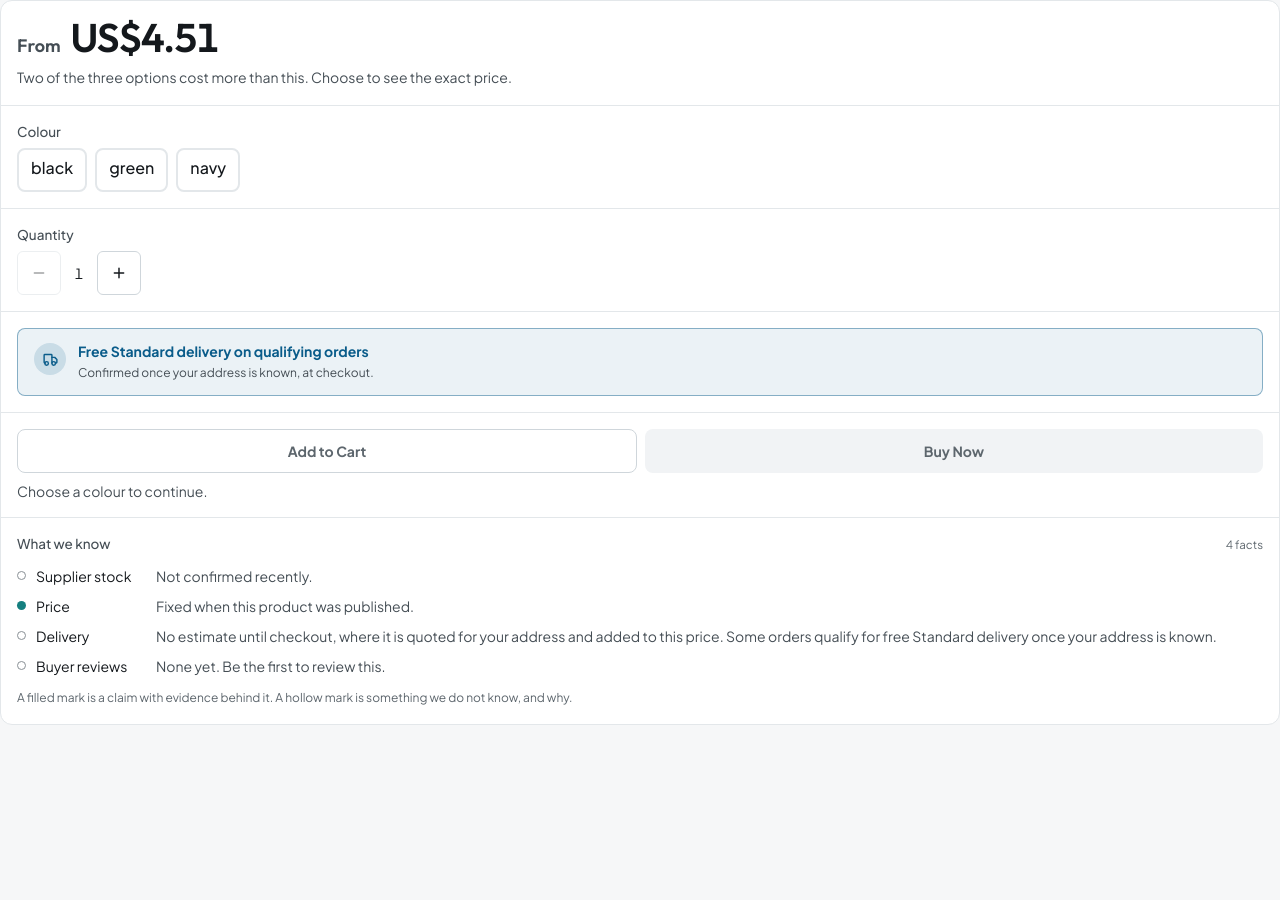
Test: ProductRecordPanel › becomes buyable once an option is chosen
Step 1. Click the link "black" → (52, 170), box [17,148,87,192]
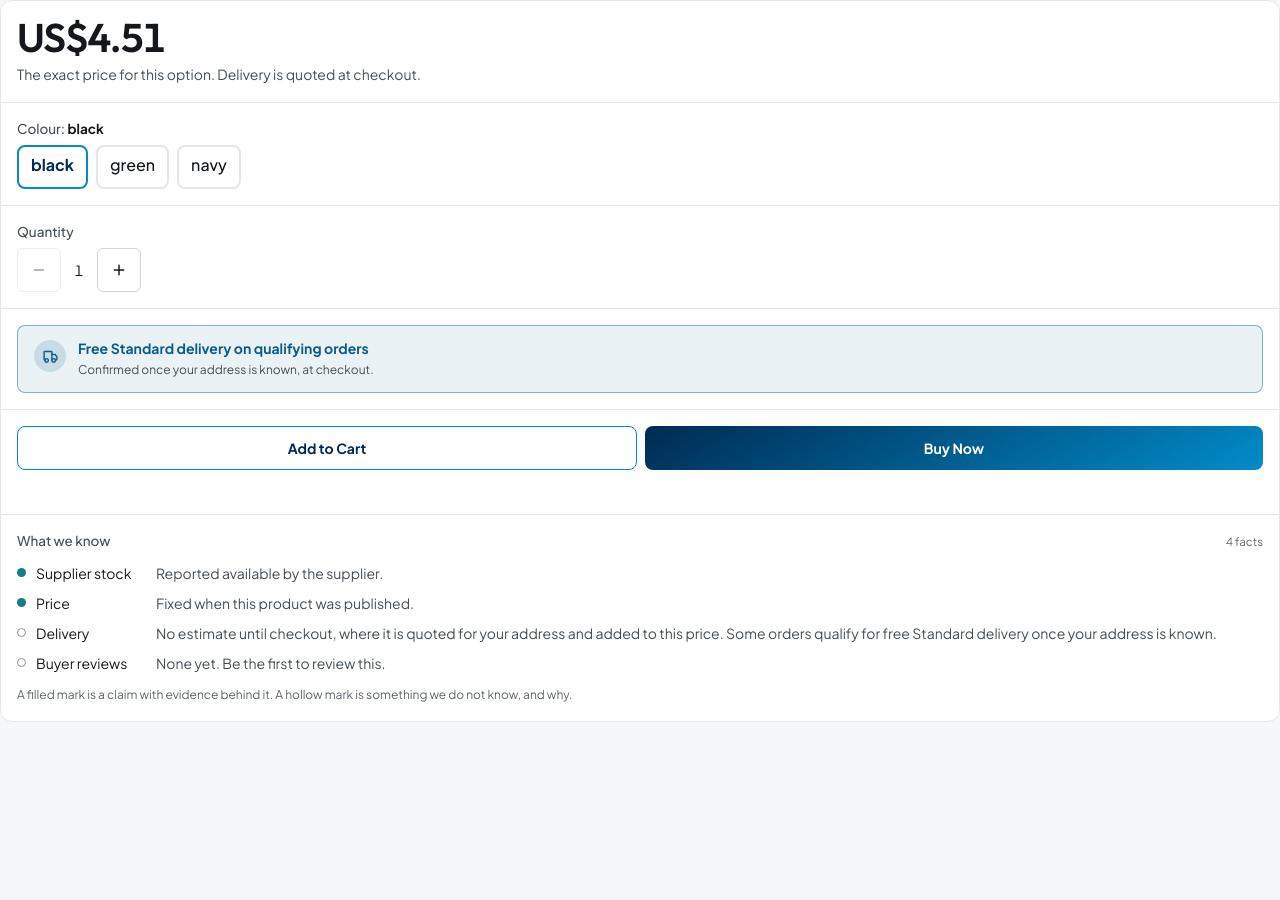
Check: the button "Add to Cart" is enabled, box [17,426,637,470]
Check: the button "Buy Now" is enabled, box [645,426,1263,470]
Check: the text "Choose a colour to continue." is gone
